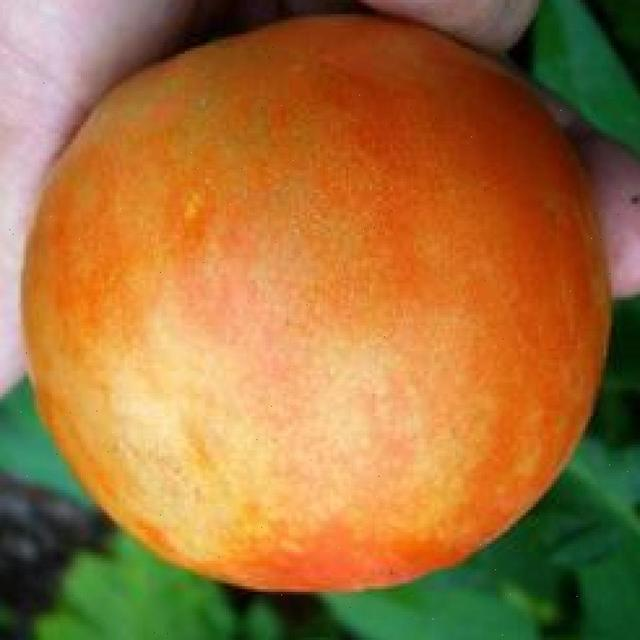Spotted wilt Virus Fruit: (15, 10, 406, 395)
